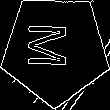M_E: (30, 26, 80, 73)
